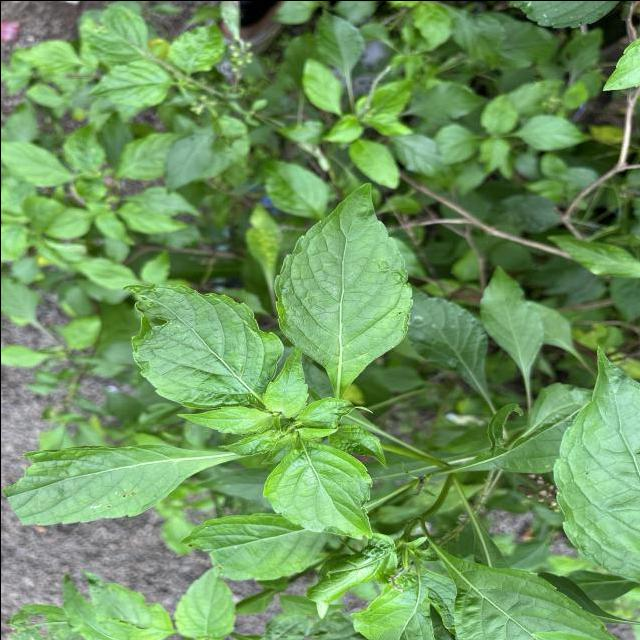Ocimum gratissimum: (266, 176, 416, 394), (114, 268, 286, 414), (422, 519, 626, 640), (547, 336, 640, 593), (0, 437, 241, 529), (260, 436, 374, 546)
